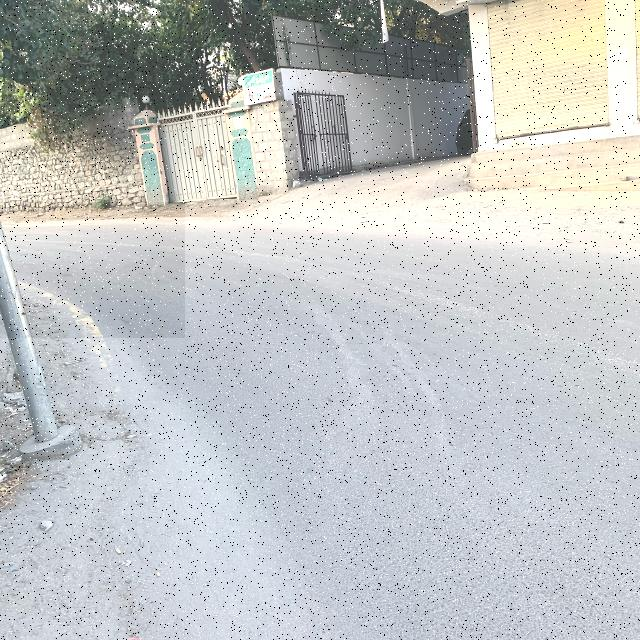left: (0, 202, 185, 338)
